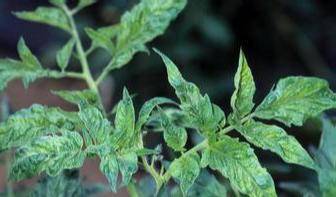Tomato leaf mosaic virus: (152, 45, 221, 134), (202, 133, 296, 197), (234, 112, 323, 175), (251, 69, 336, 132), (3, 129, 86, 186), (110, 83, 140, 148), (174, 156, 204, 197)
